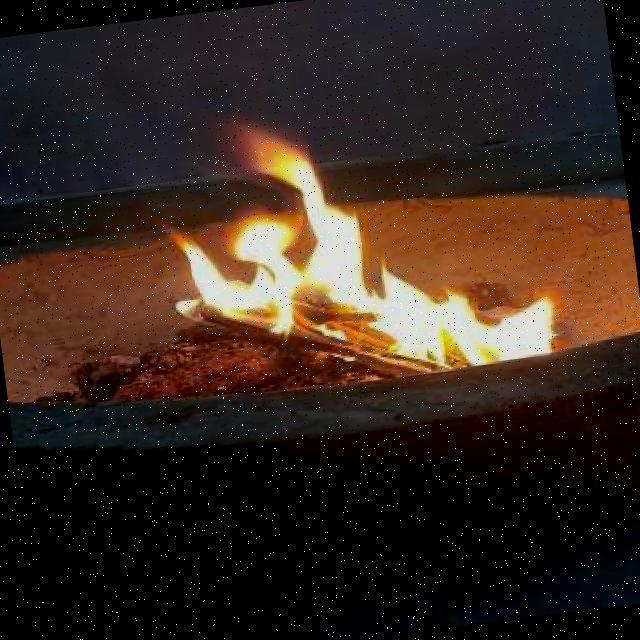Fire: (147, 125, 565, 407)
